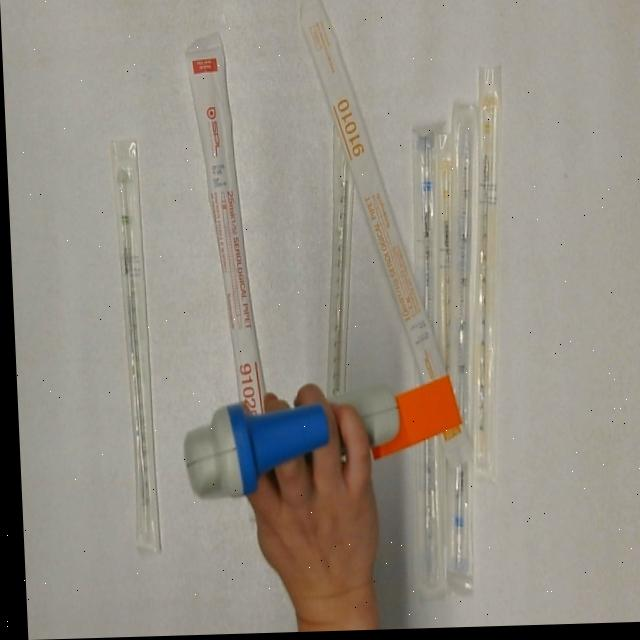Pipette Controller: (172, 370, 469, 509)
Serelogical Pipet 1 mL - Sealed: (452, 67, 520, 483), (422, 134, 468, 387)
Serelogical Pipet 10 mL - Sealed: (295, 0, 467, 476)
Serelogical Pipet 2 mL - Sealed: (296, 117, 376, 545), (107, 135, 159, 561)
Serelogical Pipet 25 mL - Sealed: (183, 29, 298, 530)
Serelogical Pipet 5 mL - Sealed: (424, 103, 496, 582), (393, 118, 456, 602)
